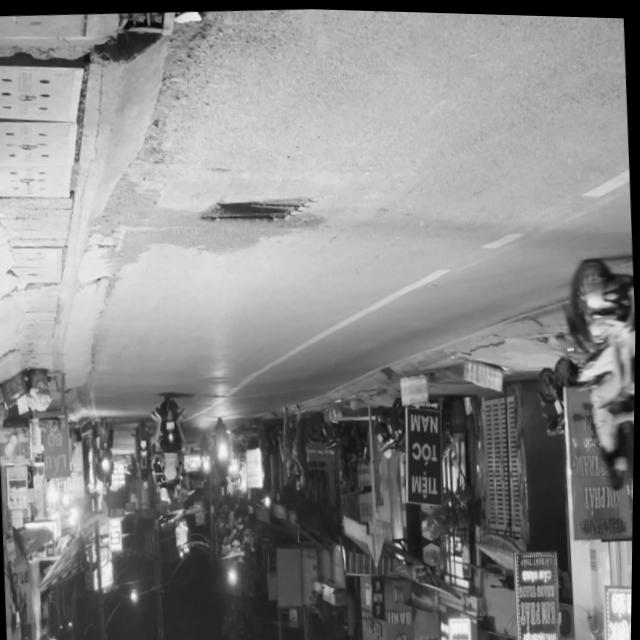helmet: (627, 458, 635, 508)
licenseplate: (551, 244, 637, 511)
motorcyclist: (607, 444, 633, 489)
